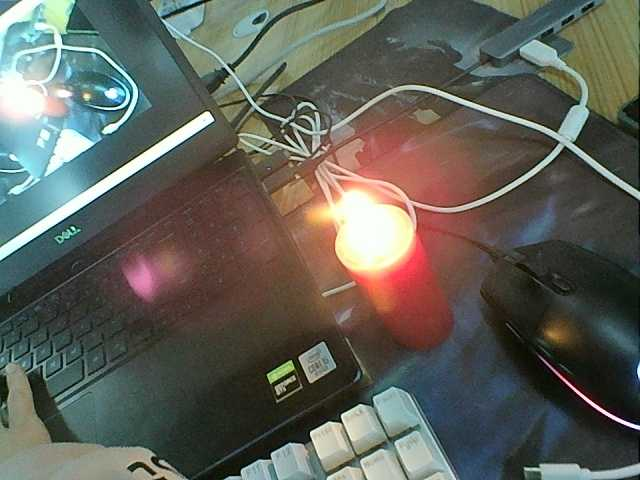candle: (329, 228, 459, 349), (45, 86, 71, 133)
fire: (341, 178, 391, 260), (7, 82, 48, 123)
